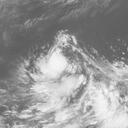cyclone: (29, 47, 99, 116)
